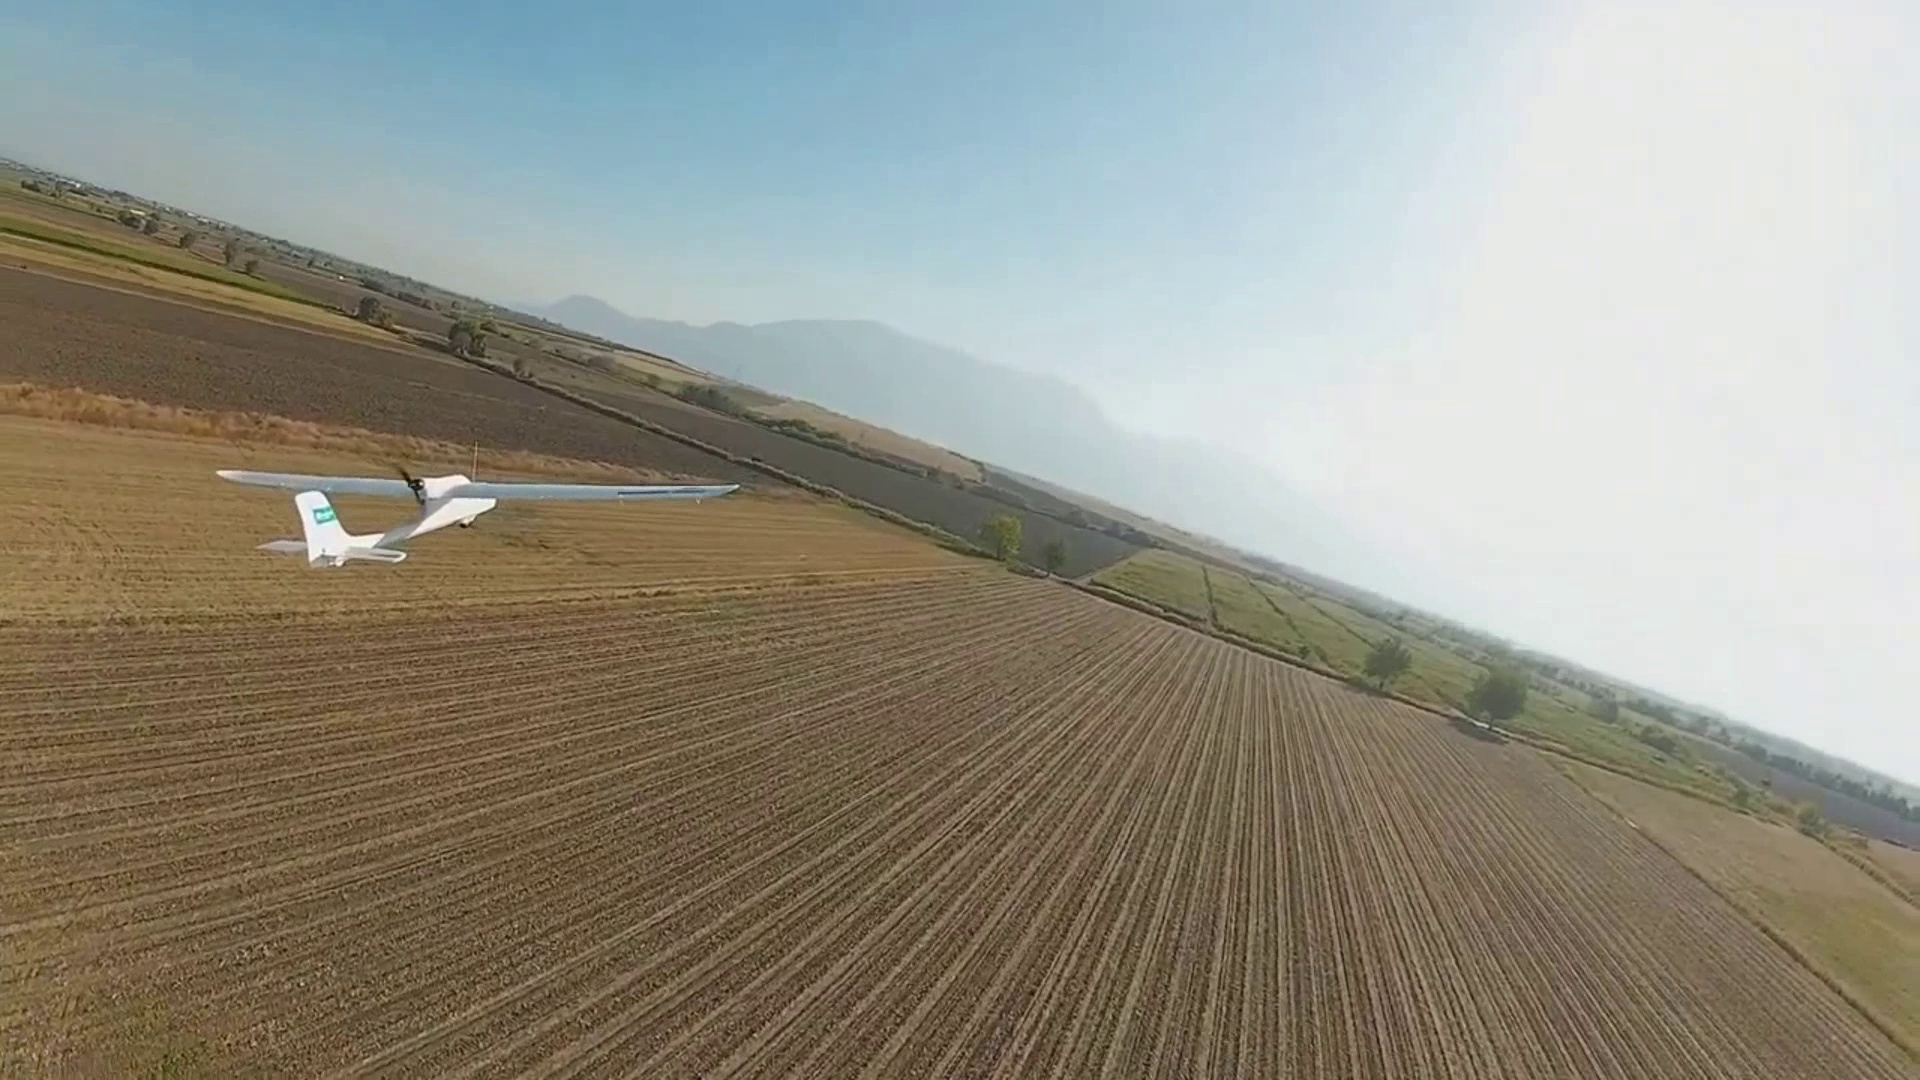airplane: (212, 465, 497, 566)
